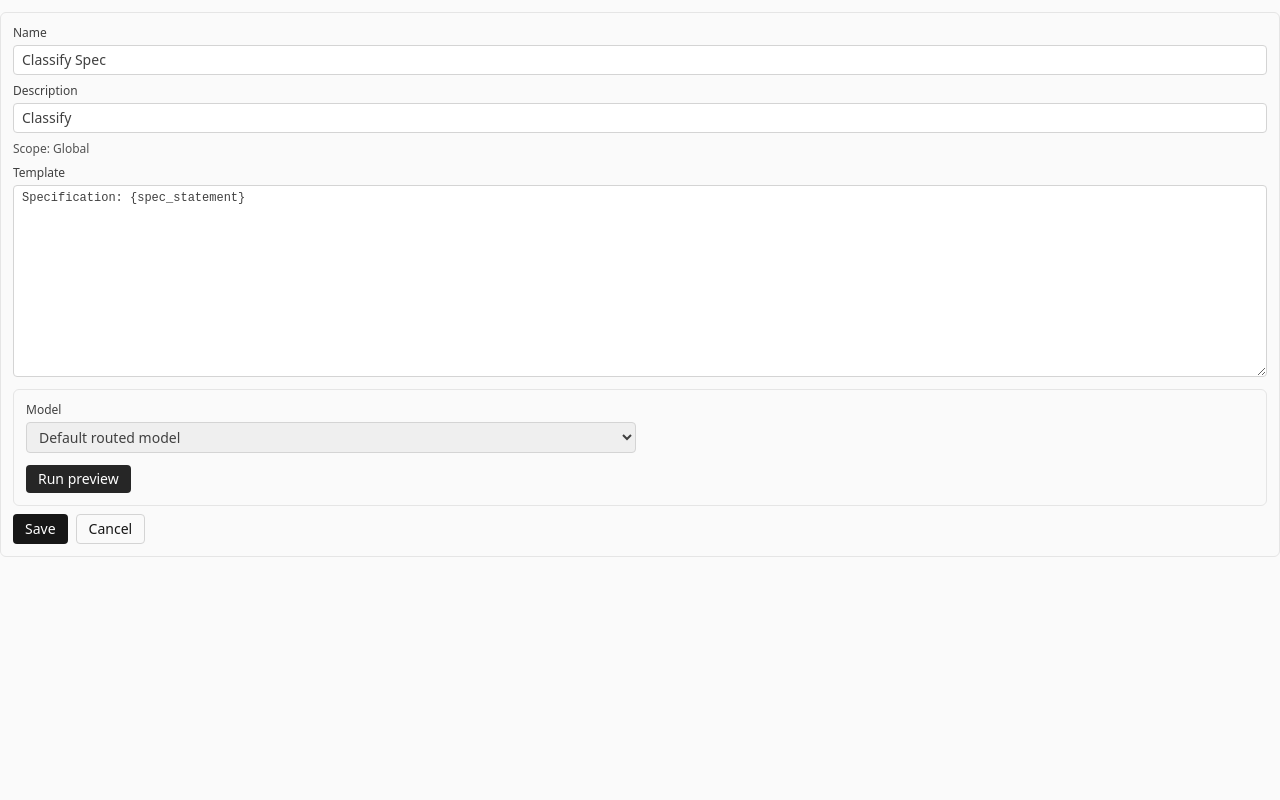
Scenario: PromptEditor › shows inline validation reason for 422 responses
The image size is (1280, 800).
Click the button "Save". click: (40, 529)
box: 13,514 -> 68,544
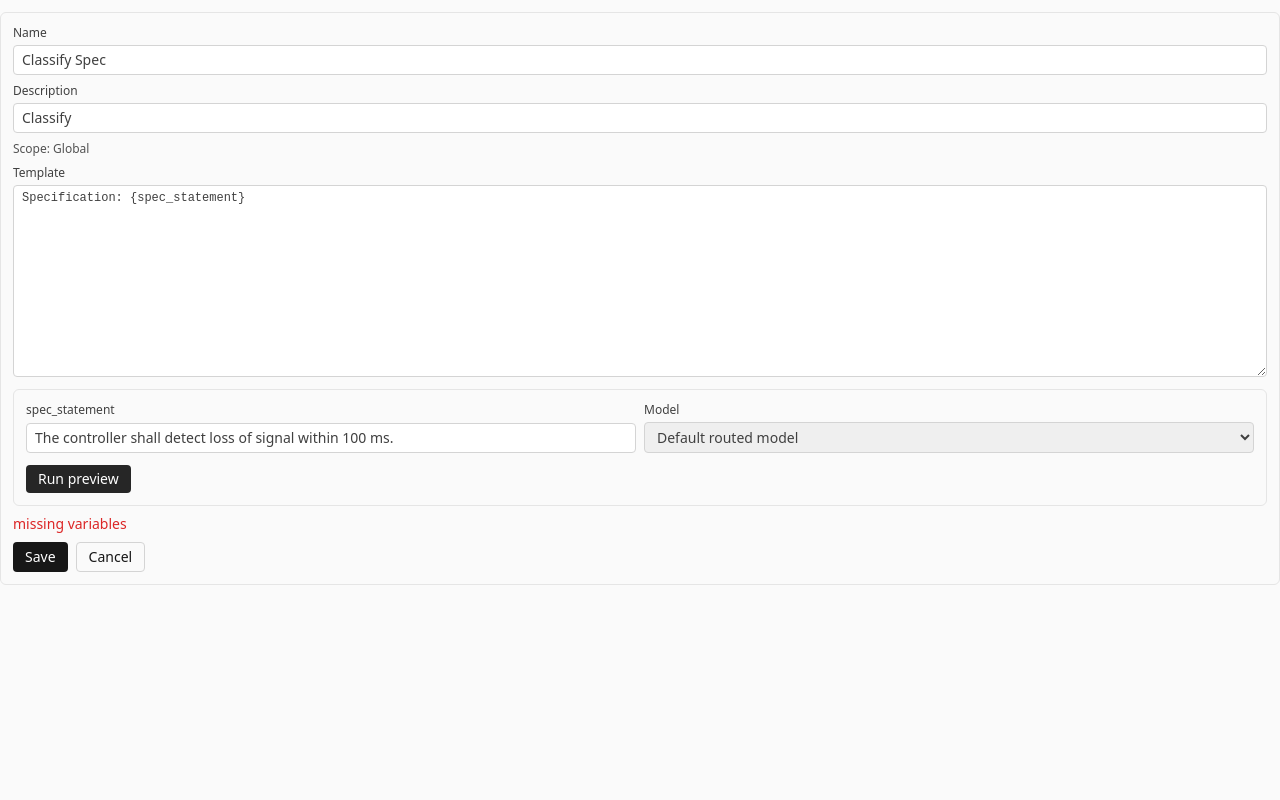
expect the text "missing variables" is shown: met, box 13,514 -> 127,533
